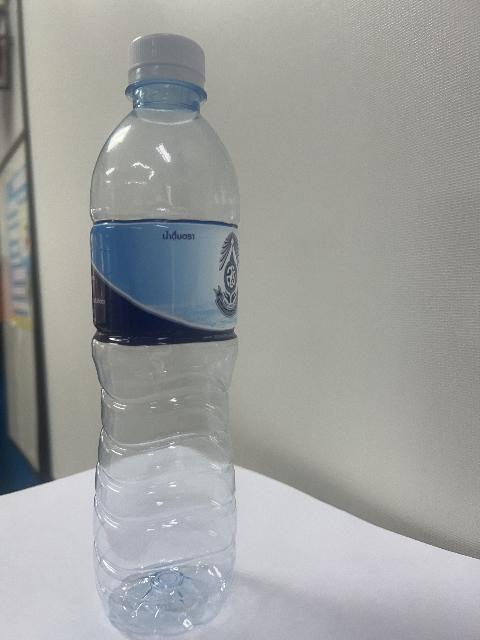bottle: (91, 34, 239, 637)
